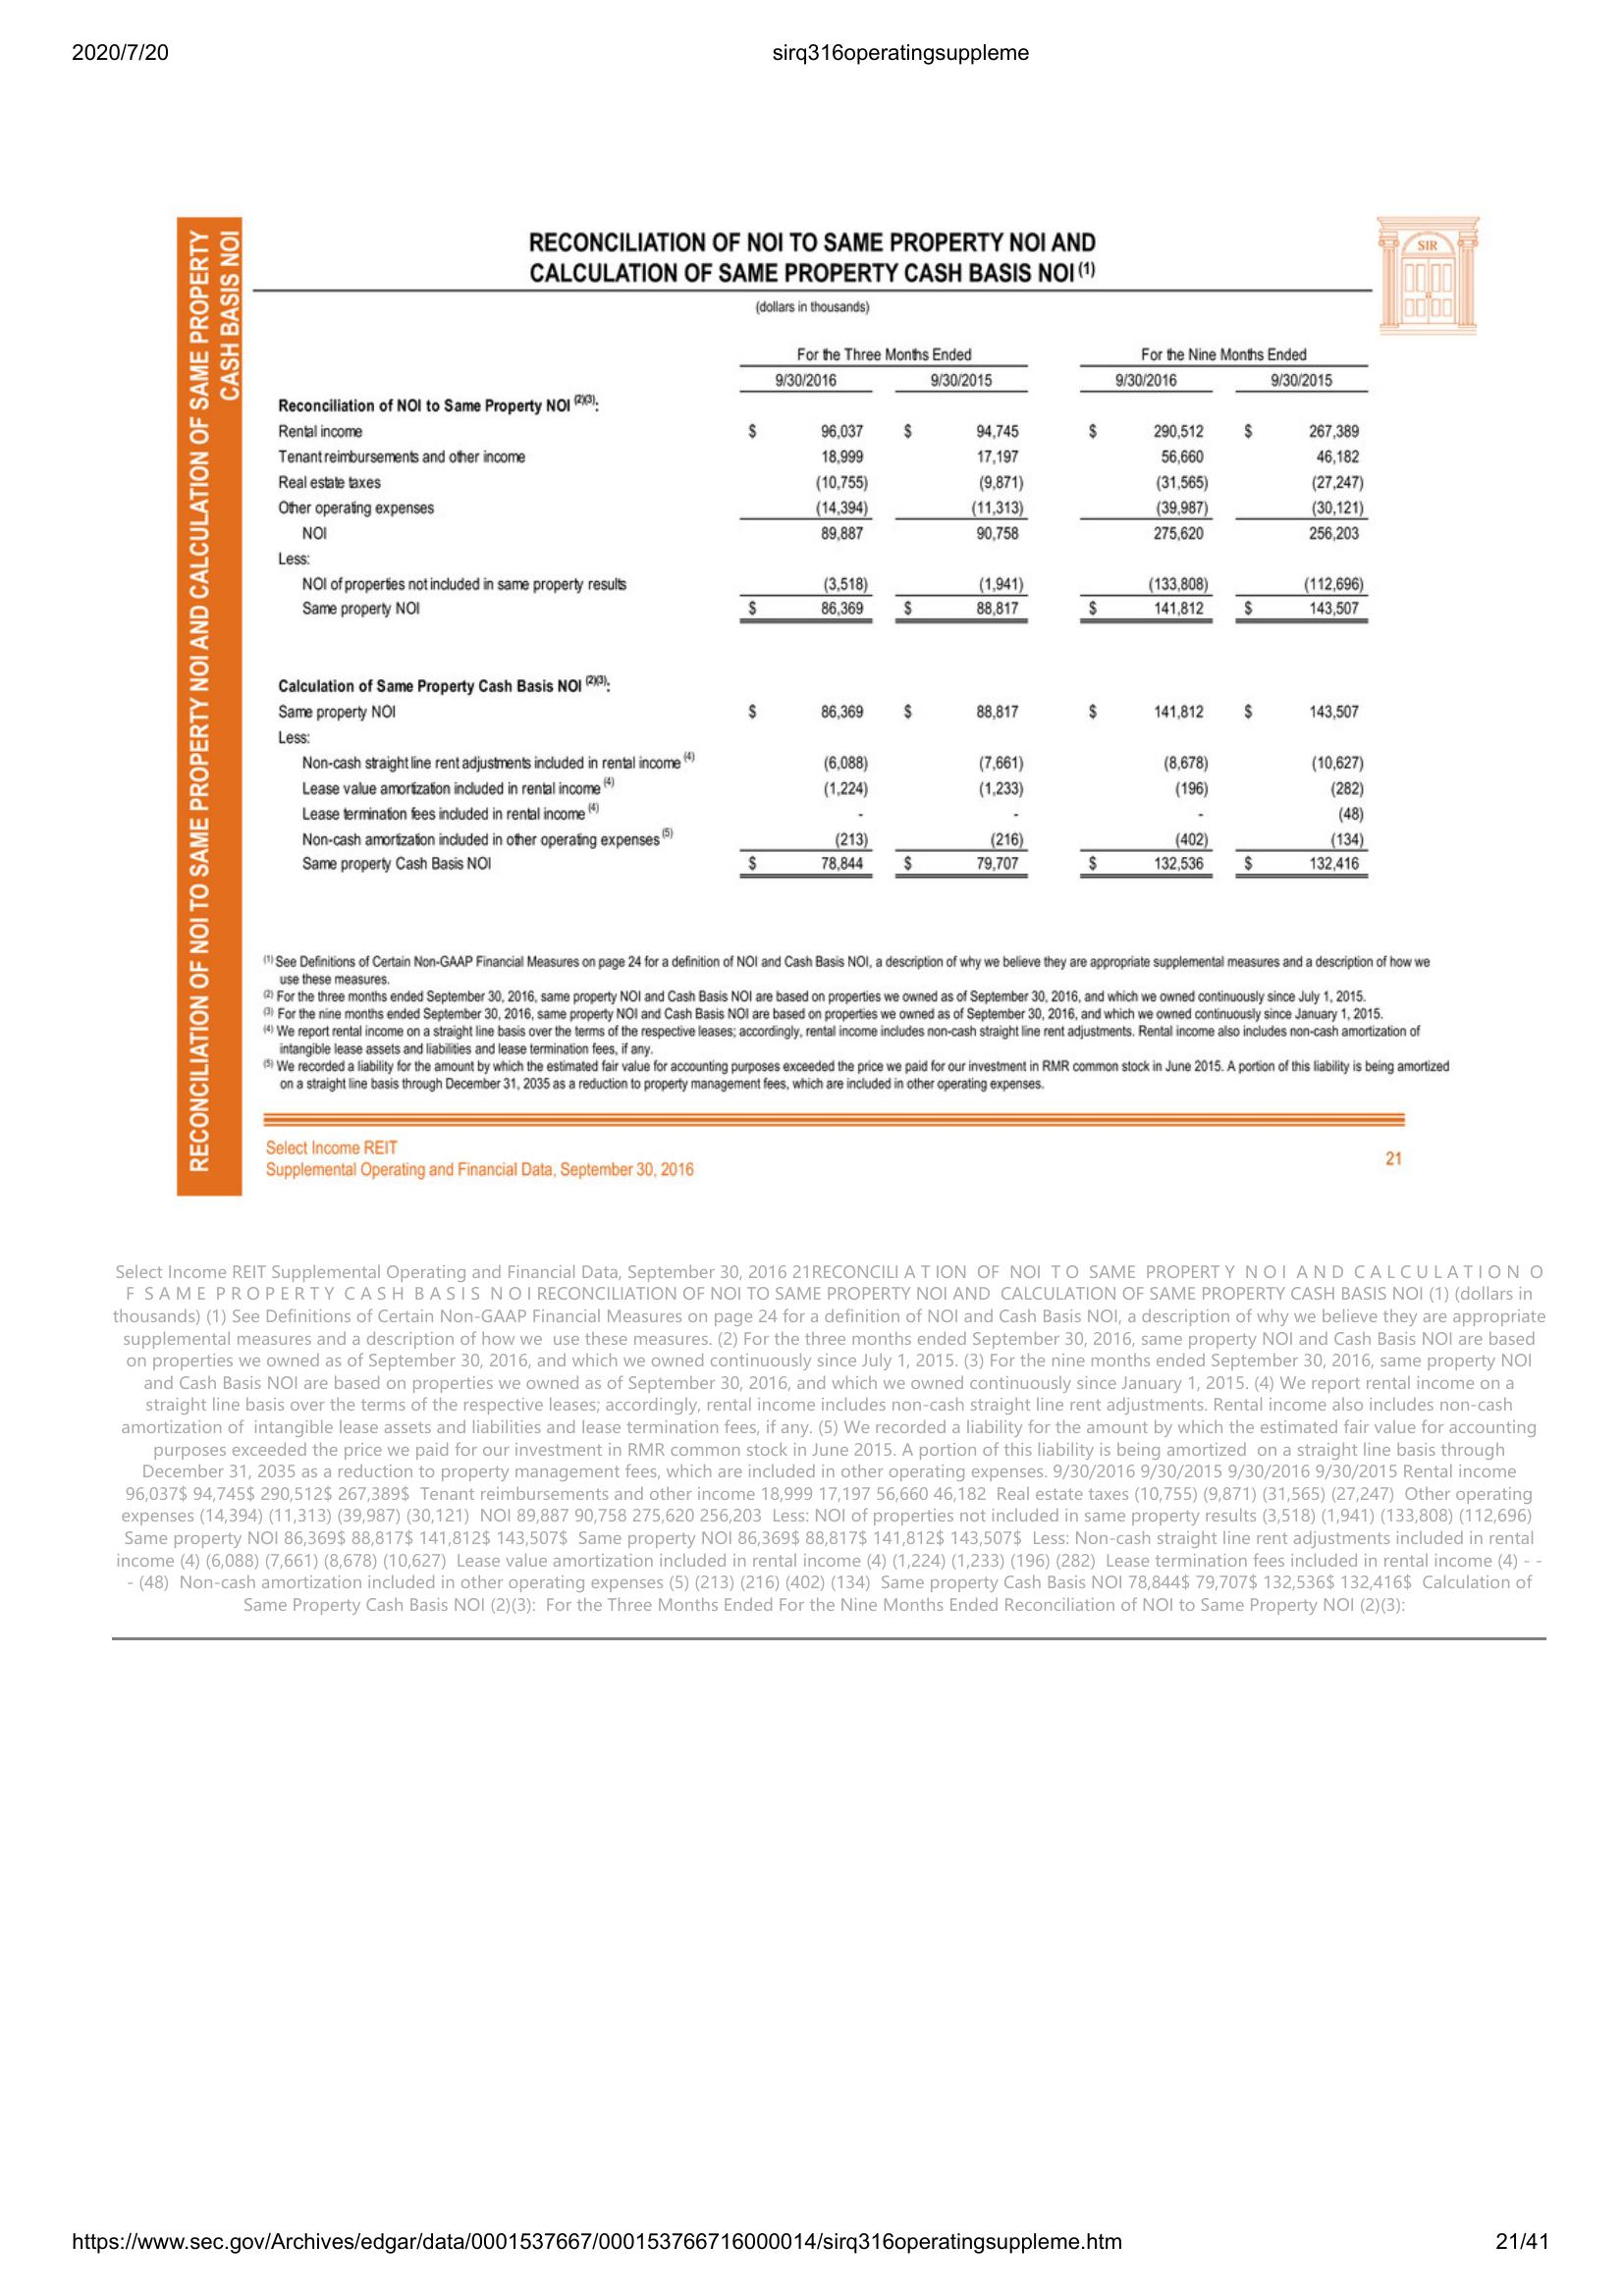table: (267, 342, 1377, 890)
